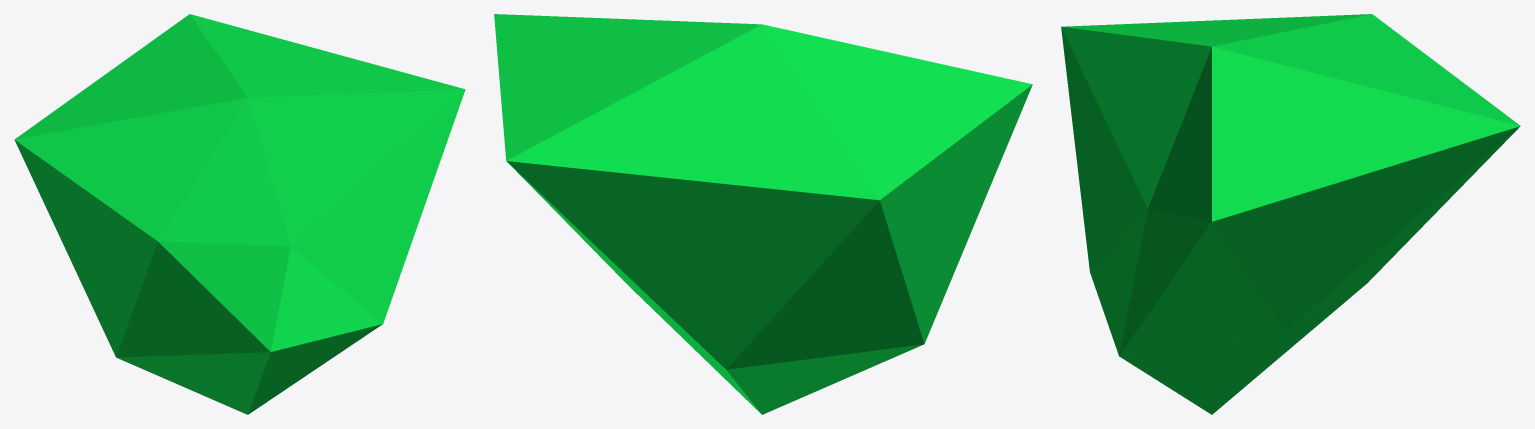
File: SM_Resource.fbx
3 views of the same model, side by side, from view 1: azimuth 30°, elevation 25°; view 2: azimuth 150°, elevation 25°; view 3: azimuth 270°, elevation 25° (orthographic). The views are drawn at different scales.
Visible parts, largest first — view 1: Icosphere; view 2: Icosphere; view 3: Icosphere.
Boxes of the visible parts, x1,y1,x2,y2 form: Icosphere: [14, 14, 465, 414]; Icosphere: [494, 14, 1032, 414]; Icosphere: [1061, 14, 1520, 414].
Size of the model in its own units: 9.33 by 7.4 by 8.37.
